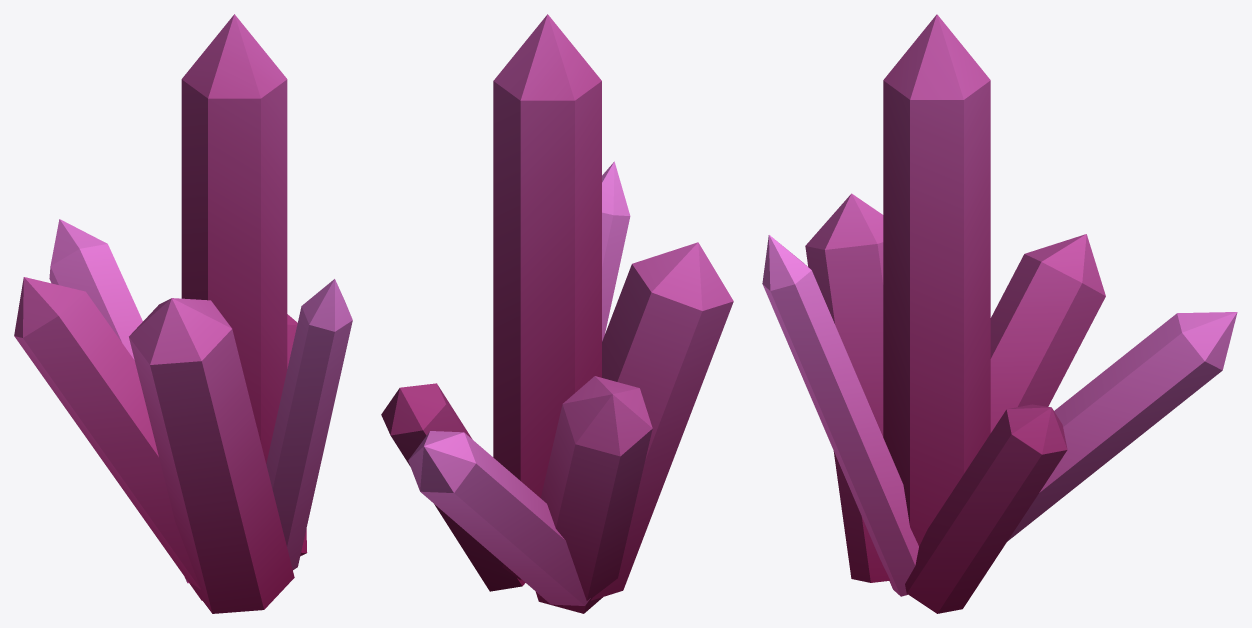
Rendered from Crystal2.fbx.
The picture shows the model from 3 angles, left to right: view 1: azimuth 30°, elevation 25°; view 2: azimuth 150°, elevation 25°; view 3: azimuth 270°, elevation 25°; orthographic projection. The views are drawn at different scales.
Parts seen in each view (by area): view 1: Окружность.052; view 2: Окружность.052; view 3: Окружность.052.
Boxes of the visible parts, x1,y1,x2,y2 form: Окружность.052: (14,14,352,613); Окружность.052: (381,14,733,613); Окружность.052: (762,14,1237,613).
Size of the model in its own units: 95.83 by 198 by 145.
Materials: 1 (1 with a texture image).
